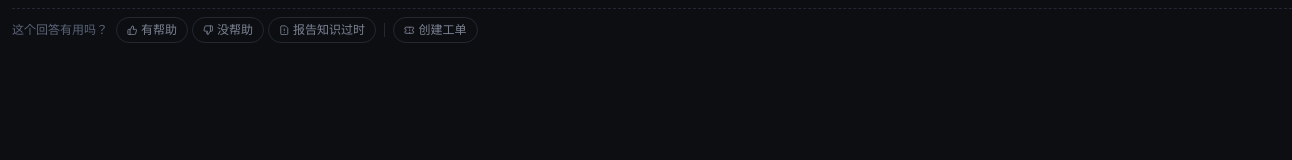
FeedbackRow › 200 already_recorded renders the SERVER verdict as the active pill + info toast
The width and height of the screenshot is (1292, 160).
Click the button with test id "feedback-helpful": (152,30) [116,17,188,43]
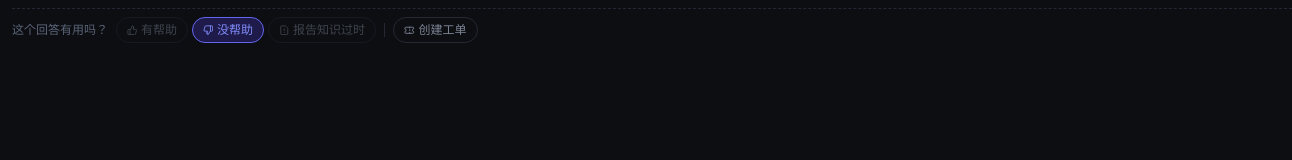
Check: the button with test id "feedback-helpful" is disabled, box [116,17,188,43]
